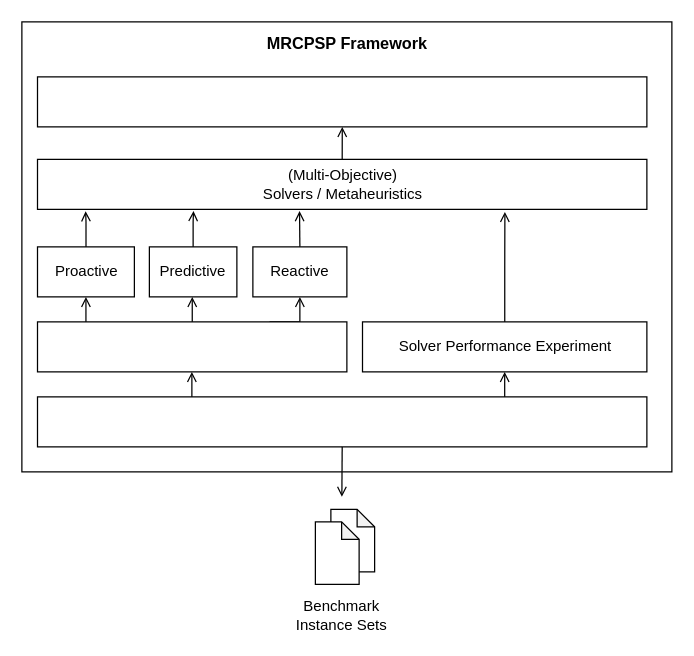
This 694x656 diagram has some shape labels left out. The box of each missing label's shape, as (x1, y1, x2, y2) in pixels:
Benchmark Loader: (36, 396, 647, 447)
Scheduler: (36, 76, 647, 127)
Uncertainty Experiment: (36, 321, 347, 372)
